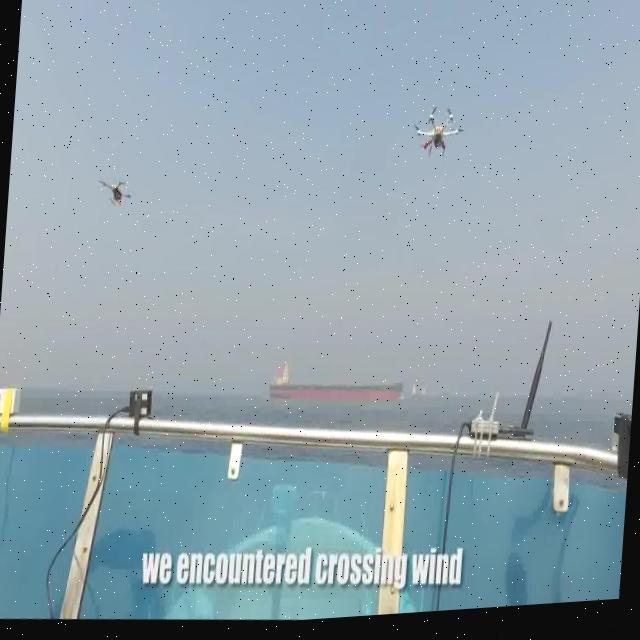drone: (410, 106, 463, 166), (94, 175, 133, 212)
